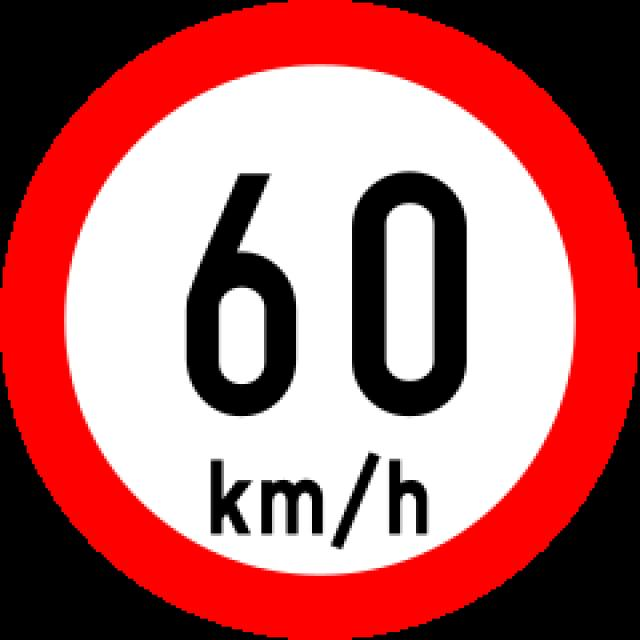Traffic sign: (174, 147, 488, 605)
